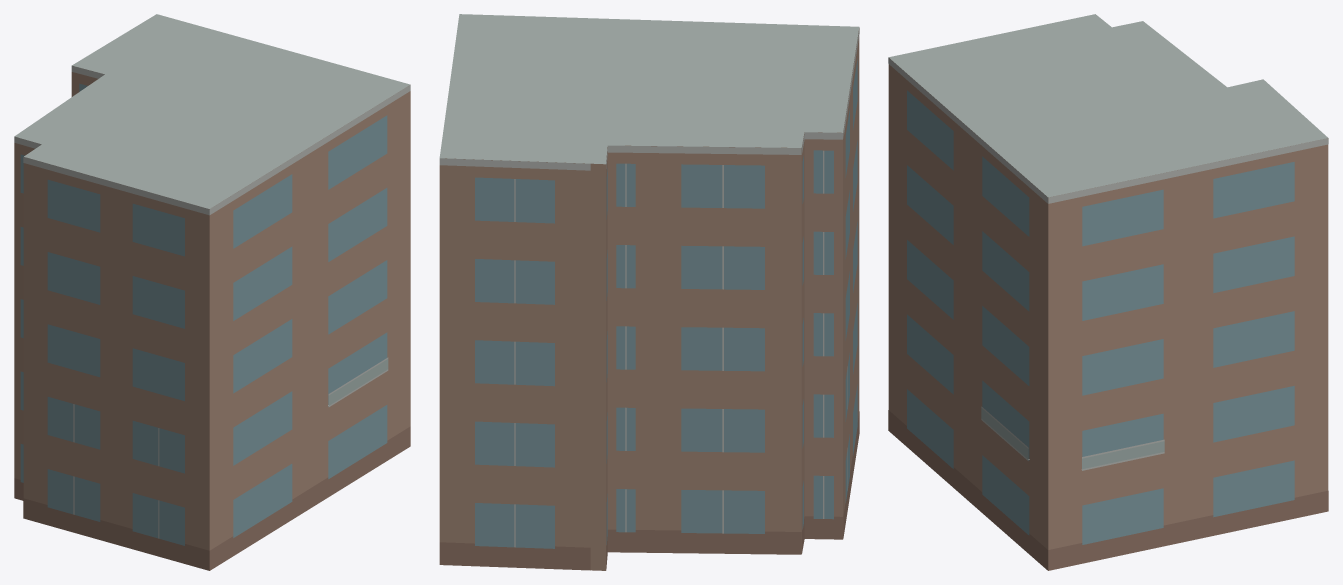
The model's file is survey-upis-32739227.glb.
3 renders of one model, left to right at view 1: azimuth 30°, elevation 25°; view 2: azimuth 150°, elevation 25°; view 3: azimuth 270°, elevation 25°, orthographic. The views are drawn at different scales.
Visible parts, largest first — view 1: survey-upis-32739227.tmp; view 2: survey-upis-32739227.tmp; view 3: survey-upis-32739227.tmp.
Boxes of the visible parts, x1,y1,x2,y2 form: survey-upis-32739227.tmp: (14,14,410,570); survey-upis-32739227.tmp: (439,14,859,570); survey-upis-32739227.tmp: (888,14,1328,570).
Size of the model in its own units: 14.92 by 14.15 by 15.12.
